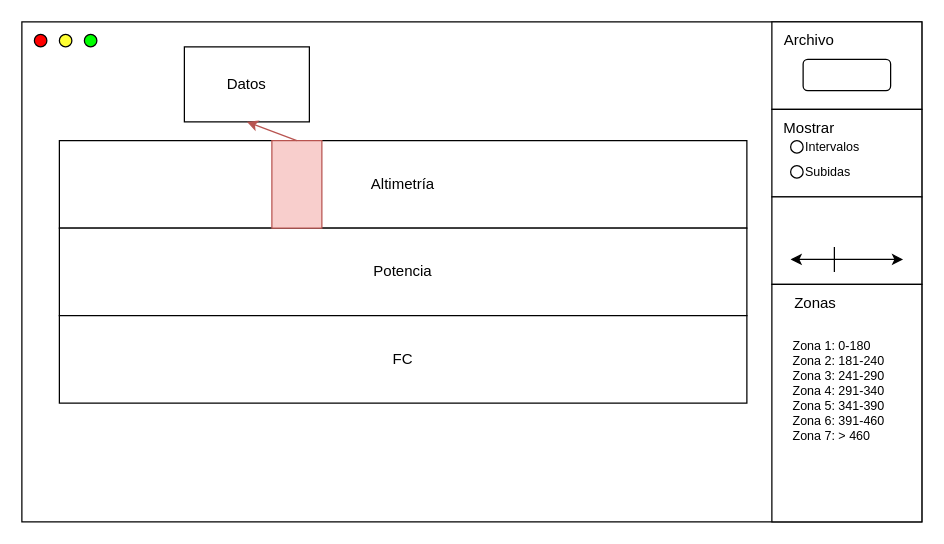
The diagram is 944 pixels wide and 544 high, and some of its shapes have lost their labels. The box of each missing label's shape, as (x1, y1, x2, y2) in pixels:
Detección: (771, 196, 922, 284)
Seleccionar: (802, 58, 891, 91)
